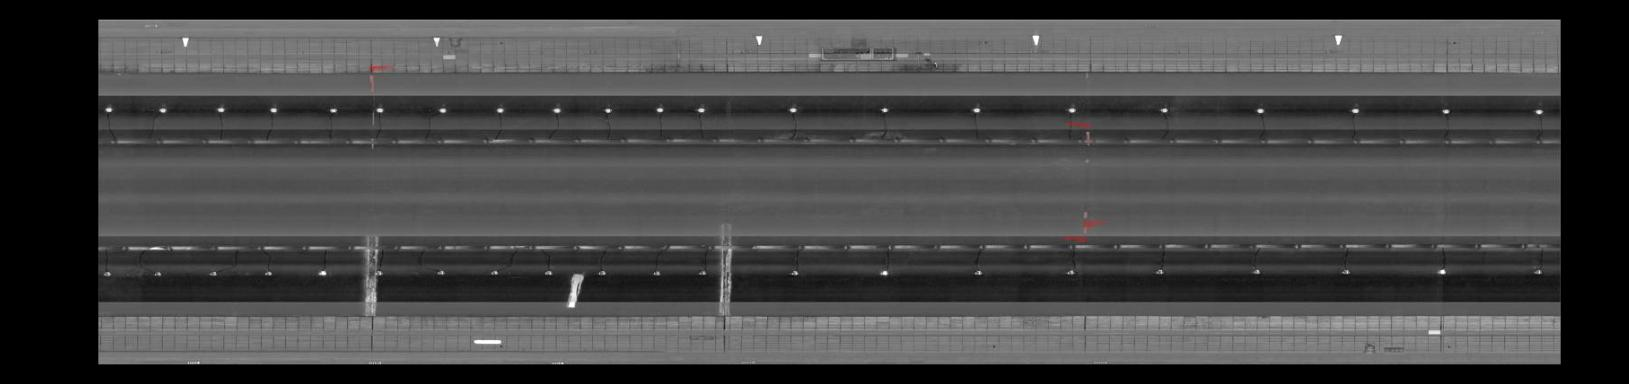light: (874, 265, 894, 279), (782, 104, 805, 116), (1336, 265, 1355, 279), (1149, 265, 1169, 278), (1061, 104, 1081, 116), (1529, 264, 1547, 278), (1434, 264, 1451, 278), (874, 103, 892, 116), (101, 266, 116, 281), (1251, 104, 1269, 117), (969, 266, 987, 279), (486, 266, 504, 279), (1247, 265, 1265, 277), (149, 265, 164, 279), (967, 104, 985, 116), (785, 268, 804, 279), (548, 104, 566, 115), (1155, 104, 1172, 116), (314, 266, 330, 278), (155, 103, 171, 115), (1437, 106, 1457, 116), (1346, 105, 1364, 116), (1062, 268, 1079, 279), (259, 267, 276, 278), (434, 104, 452, 115), (1531, 106, 1548, 117), (101, 104, 117, 115), (265, 104, 282, 115), (212, 104, 230, 114), (593, 267, 608, 279), (652, 104, 668, 115), (600, 104, 616, 115), (540, 268, 557, 278), (695, 268, 710, 279), (650, 268, 665, 279), (434, 268, 449, 279), (206, 268, 220, 279), (493, 104, 508, 115), (692, 104, 709, 113), (325, 104, 339, 115), (373, 268, 388, 278), (373, 103, 388, 113)
